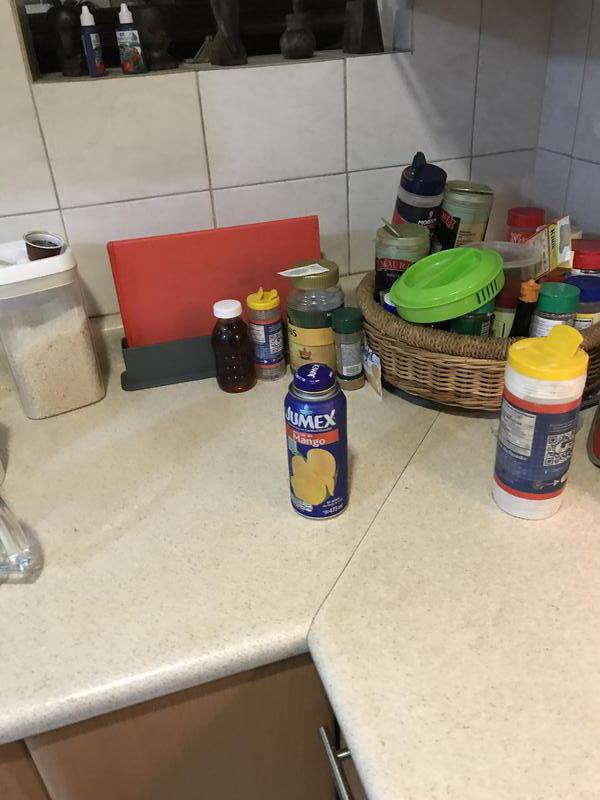jugo_jumex: (284, 365, 352, 522)
